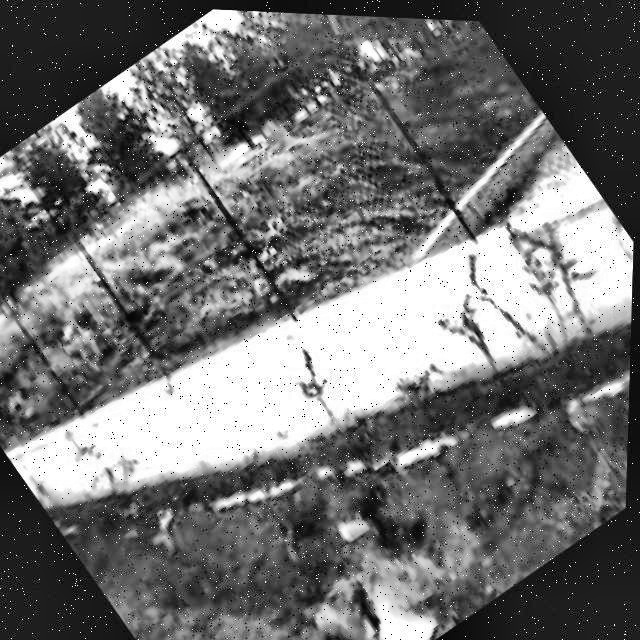Fire: (275, 492, 494, 640)
